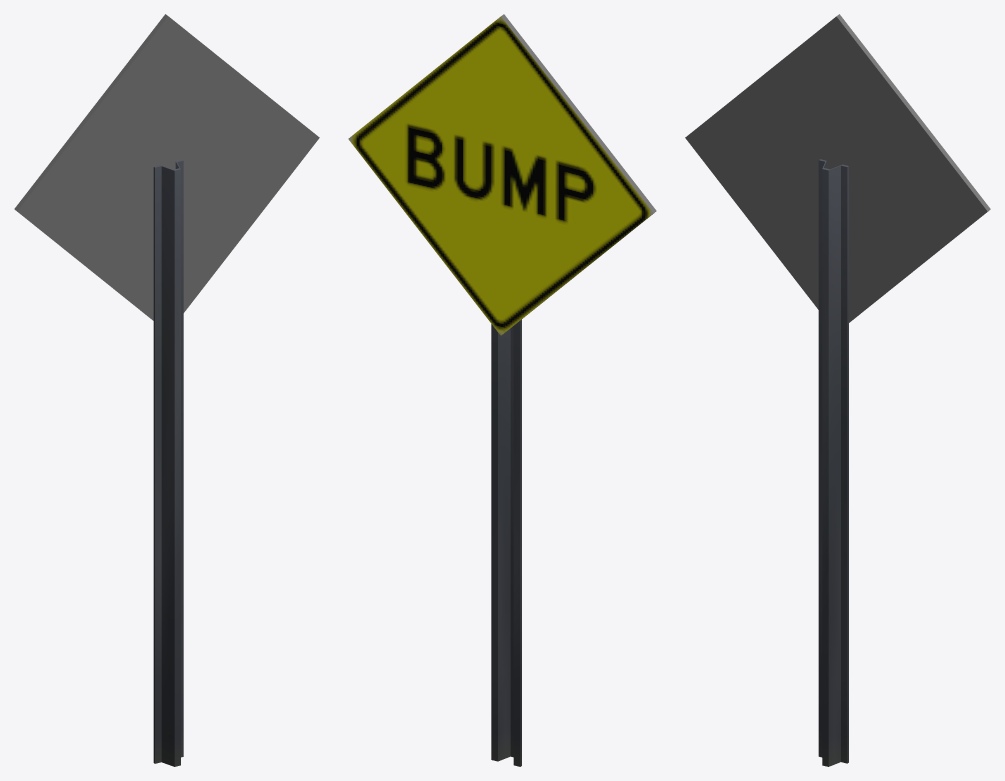
The model's file is warning_bump.obj.
3 views of the same model, side by side, from view 1: azimuth 30°, elevation 25°; view 2: azimuth 150°, elevation 25°; view 3: azimuth 330°, elevation 25° (orthographic).
Visible parts, largest first — view 1: Mesh; view 2: Mesh; view 3: Mesh.
Part boxes in pixels (box(x1,y1,x2,y2)): Mesh: box(14, 14, 319, 766); Mesh: box(348, 14, 656, 766); Mesh: box(685, 14, 990, 766).
Size of the model in its own units: 0.2382 by 0.5585 by 0.0181.
